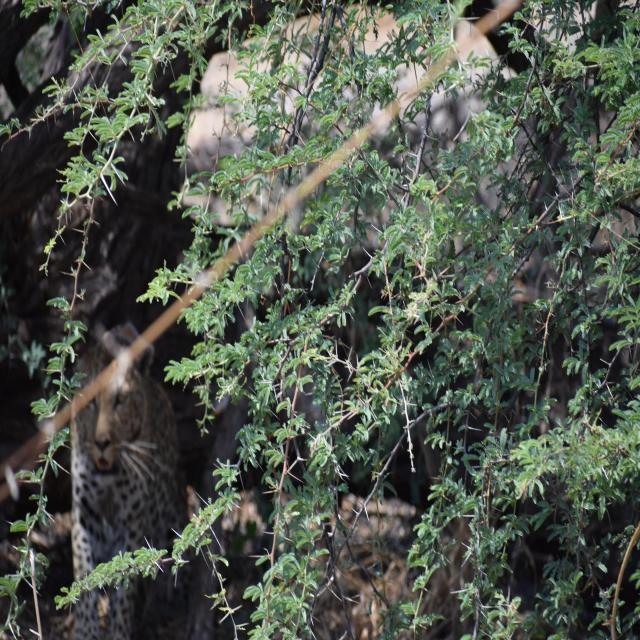Leopard: (46, 334, 197, 630)
